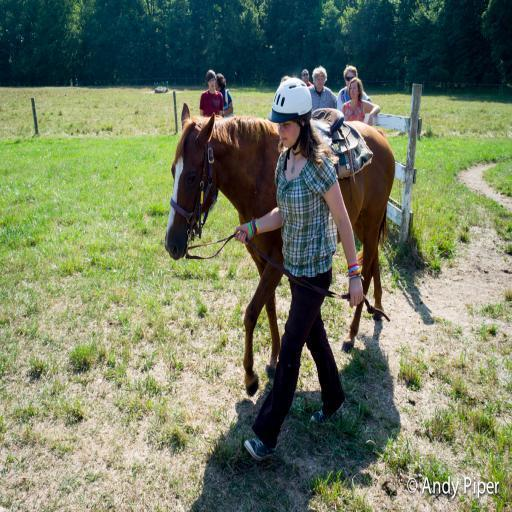horse: (164, 100, 396, 400)
